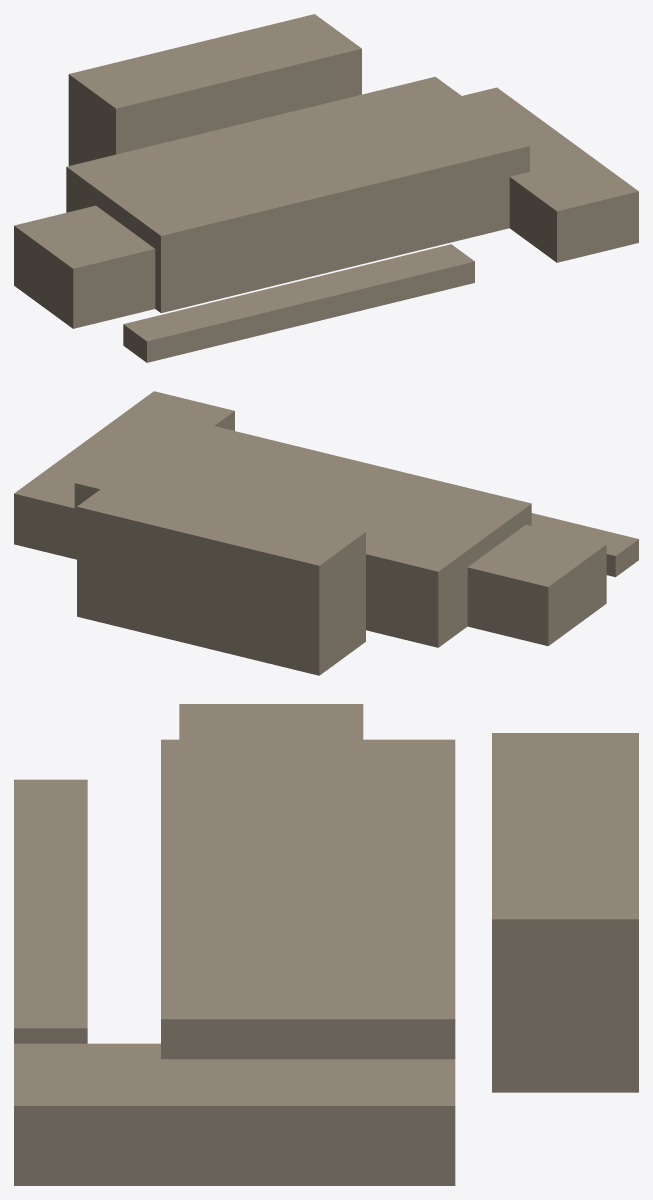
The model's file is SM_RexaWarehouseQuarter_Alpha_Collision.gltf.
The picture shows the model from 3 angles, top to bottom: view 1: azimuth 30°, elevation 25°; view 2: azimuth 150°, elevation 25°; view 3: azimuth 270°, elevation 25°; orthographic projection. The views are drawn at different scales.
Parts seen in each view (by area): view 1: SM_RexaWarehouseQuarter_Alpha; view 2: SM_RexaWarehouseQuarter_Alpha; view 3: SM_RexaWarehouseQuarter_Alpha.
Boxes of the visible parts, left/top/right/bottom form: SM_RexaWarehouseQuarter_Alpha: left=14, top=14, right=638, bottom=362; SM_RexaWarehouseQuarter_Alpha: left=14, top=391, right=638, bottom=675; SM_RexaWarehouseQuarter_Alpha: left=14, top=704, right=638, bottom=1185.
Bounding box in the file's own units: 25 × 5.2 × 17.
